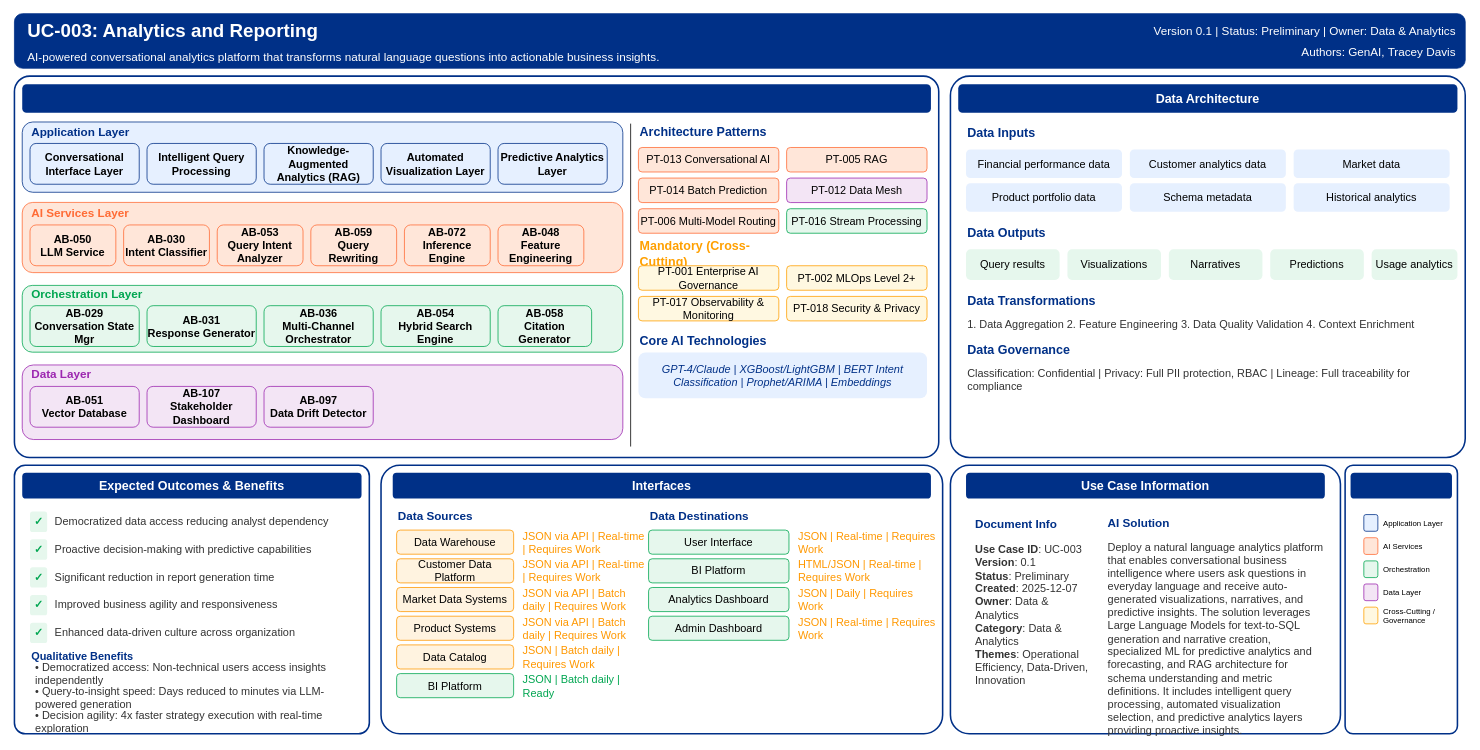
The diagram is 1480 pixels wide and 750 high, and some of its shapes have lost their labels. Here are the shapes that lost their labels. From the top down, the centre of each, then its label:
[476,98]: Solution
[1401,485]: Legend
